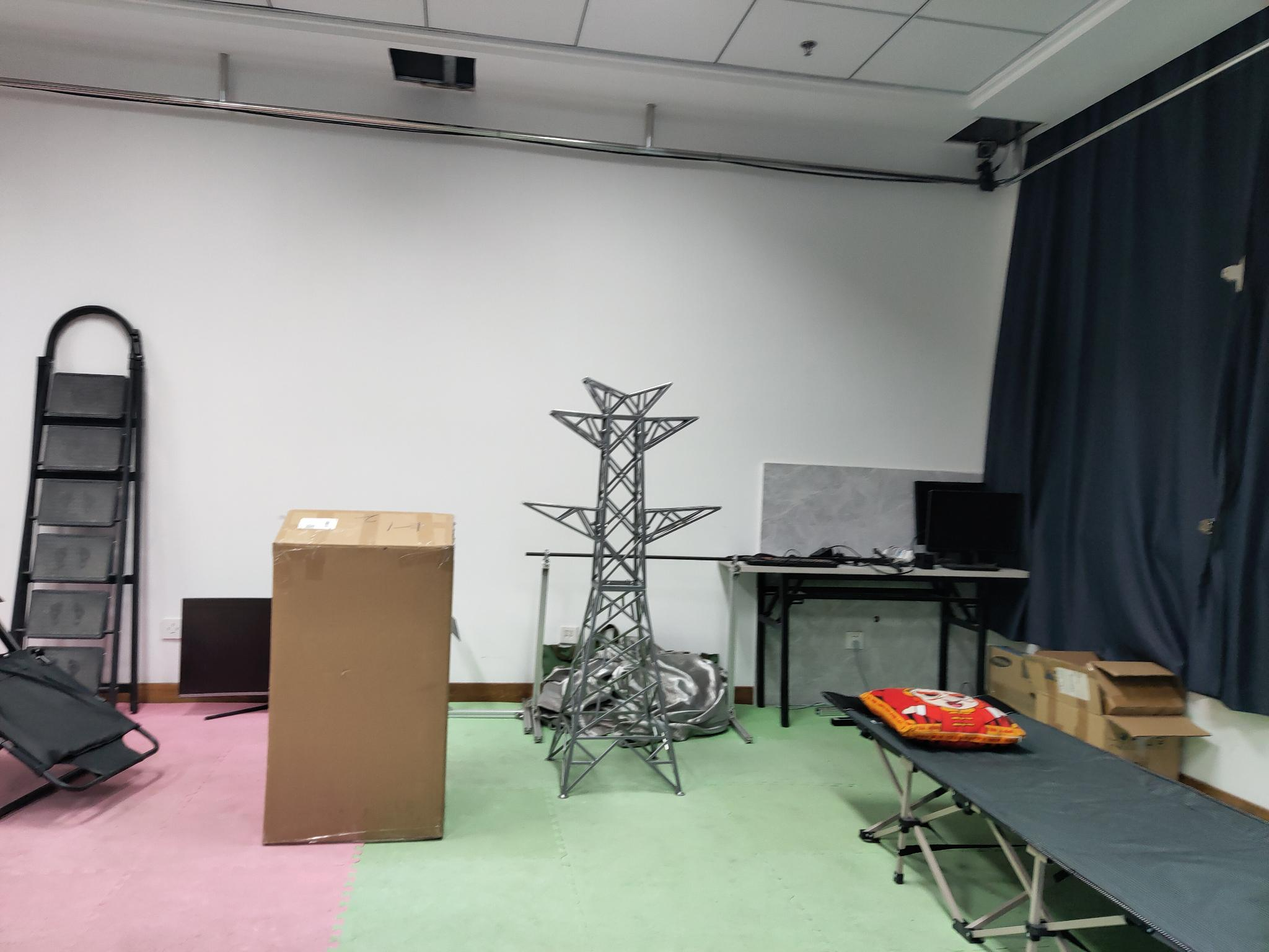tower: (521, 377, 721, 795)
